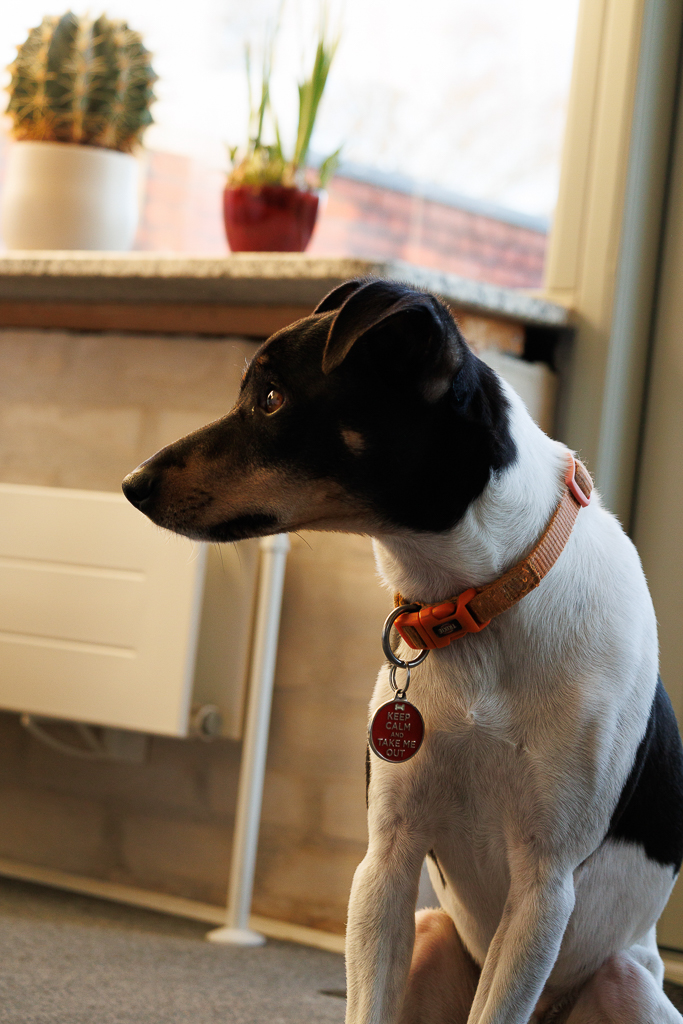Dog: (109, 268, 683, 1024)
